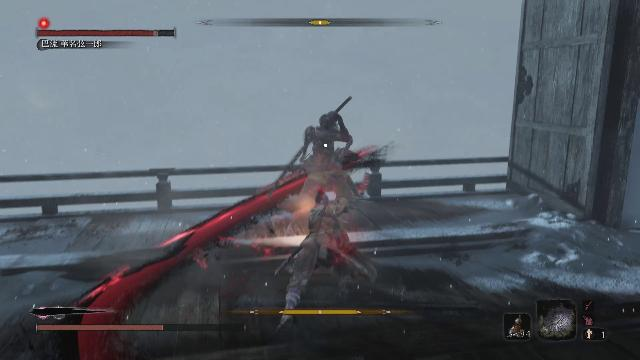sk: (276, 185, 384, 330)
